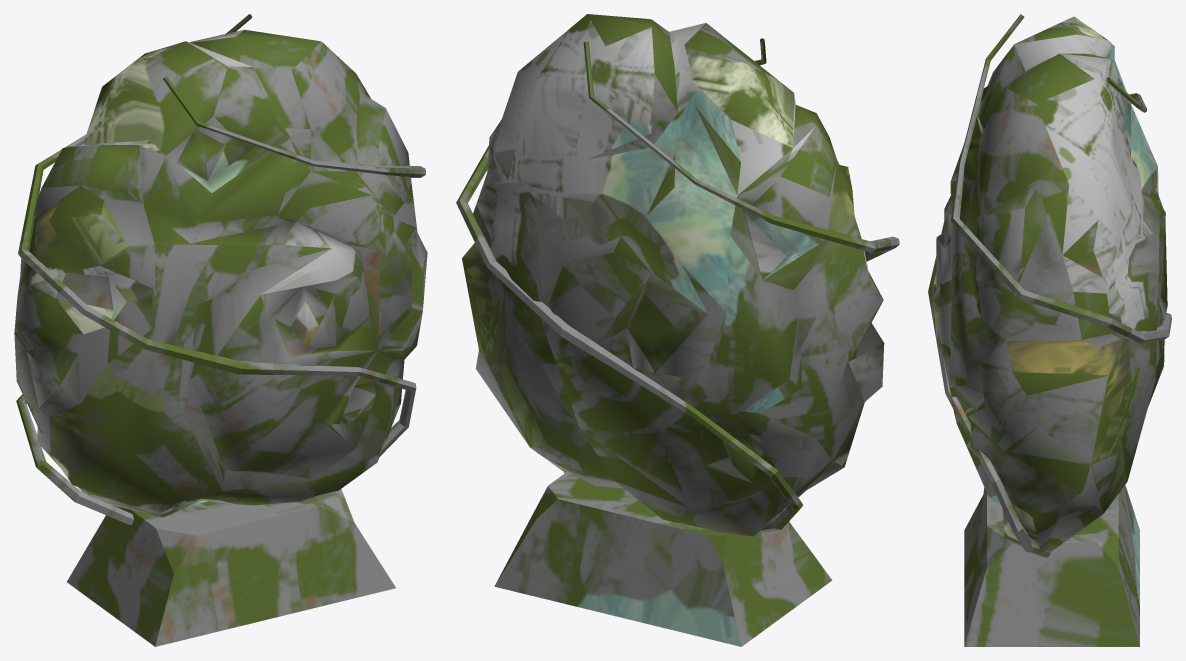
File: Gema Dragon con base.fbx
The picture shows the model from 3 angles, left to right: view 1: azimuth 30°, elevation 25°; view 2: azimuth 150°, elevation 25°; view 3: azimuth 270°, elevation 25°; orthographic projection. The views are drawn at different scales.
Parts seen in each view (by area): view 1: Gema Dragon LOW, Cube, Vert.001, Vert; view 2: Gema Dragon LOW, Cube, Vert, Vert.001; view 3: Gema Dragon LOW, Cube, Vert, Vert.001.
Part boxes in pixels (bbox=[...]): Gema Dragon LOW: bbox=[14, 29, 427, 517]; Cube: bbox=[67, 489, 395, 646]; Vert.001: bbox=[18, 14, 416, 456]; Vert: bbox=[16, 76, 425, 524]; Gema Dragon LOW: bbox=[462, 14, 884, 536]; Cube: bbox=[494, 472, 832, 646]; Vert: bbox=[456, 38, 803, 532]; Vert.001: bbox=[564, 41, 899, 473]; Gema Dragon LOW: bbox=[932, 16, 1167, 554]; Cube: bbox=[964, 485, 1139, 646]; Vert: bbox=[951, 14, 1171, 343]; Vert.001: bbox=[928, 77, 1146, 557].
Size of the model in its own units: 284 by 379 by 156.
